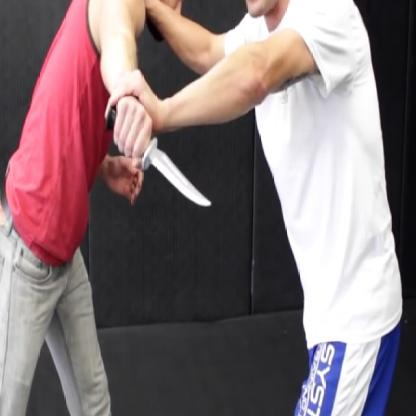knife: (101, 92, 218, 223)
